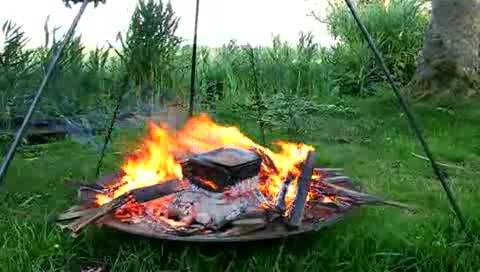fire: (110, 121, 320, 210)
